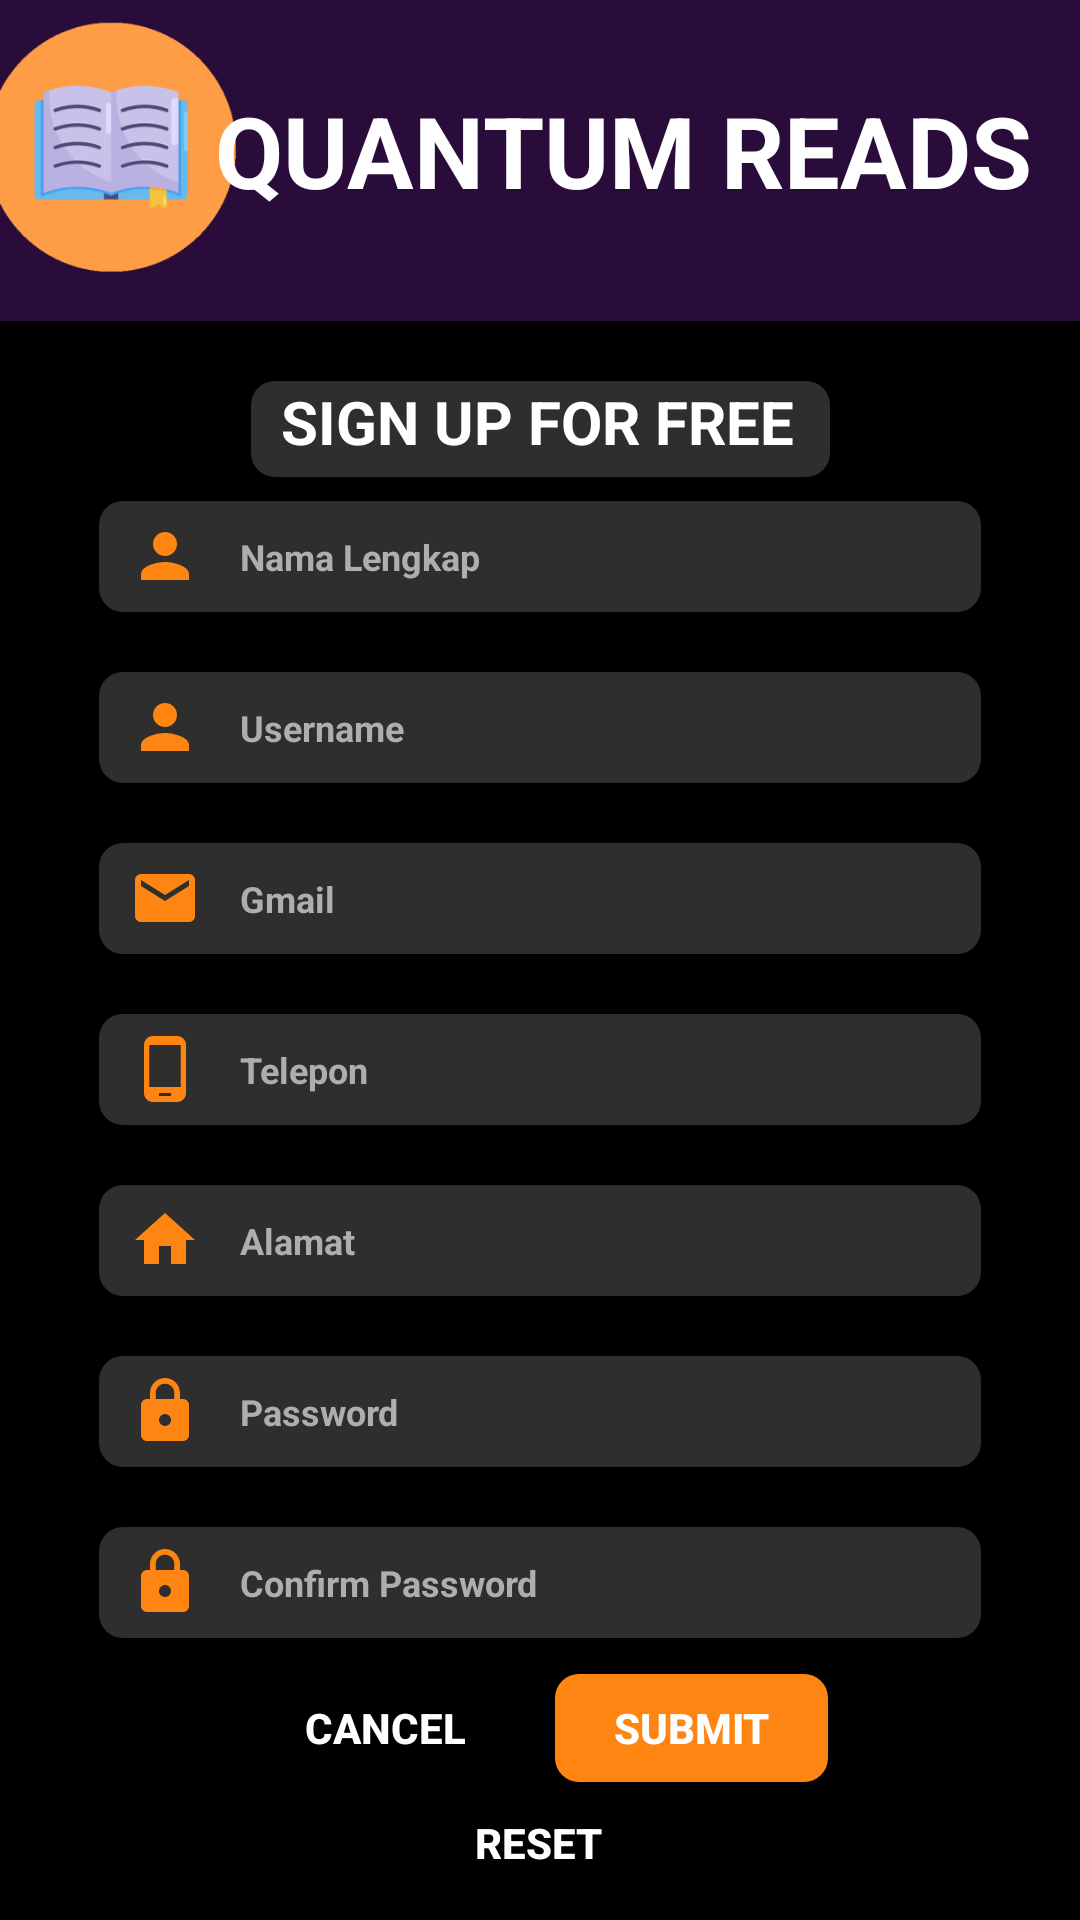

Icons on this 1080 x 1920 Android screen, each with its box as rect(x1, y1, x2, y2):
login buku: rect(0, 22, 242, 272)
